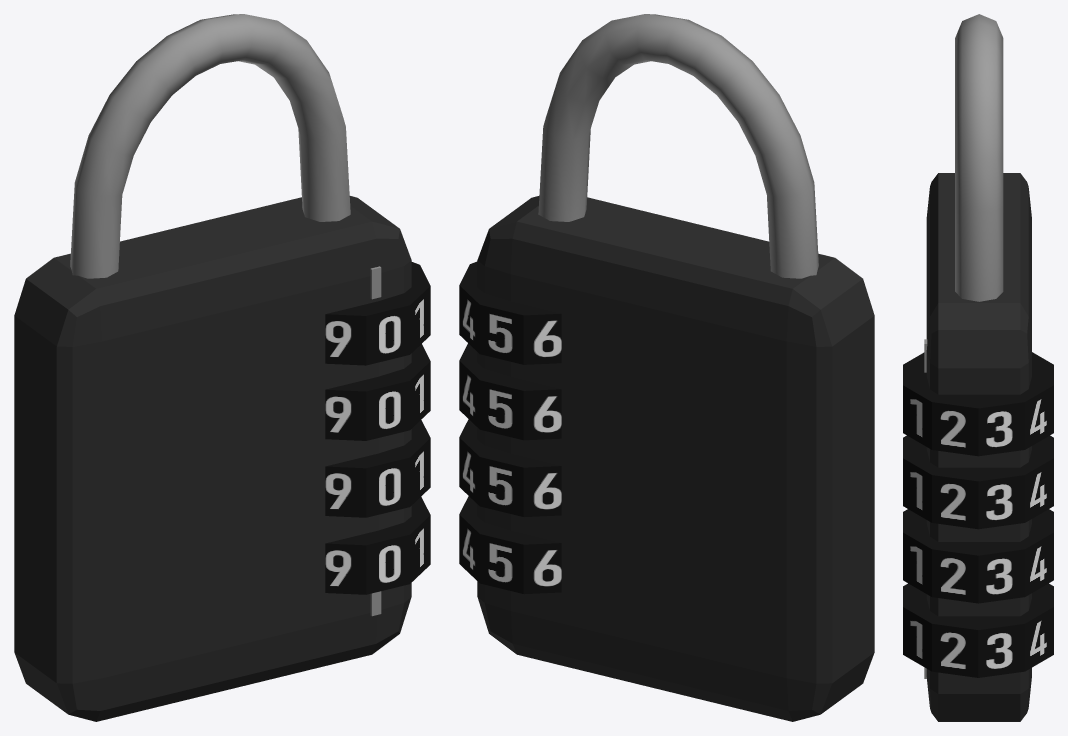
Rendered from padlock.fbx.
The picture shows the model from 3 angles, left to right: view 1: azimuth 30°, elevation 25°; view 2: azimuth 150°, elevation 25°; view 3: azimuth 270°, elevation 25°; orthographic projection. The views are drawn at different scales.
Visible parts, largest first — view 1: padlock_body, neck, dial_1, dial_4, dial_3, dial_2; view 2: padlock_body, neck, dial_1, dial_3, dial_4, dial_2; view 3: padlock_body, neck, dial_1, dial_4, dial_2, dial_3.
Boxes of the visible parts, x1,y1,x2,y2 form: padlock_body: [14, 196, 411, 721]; neck: [70, 14, 350, 278]; dial_1: [325, 262, 430, 365]; dial_4: [325, 497, 430, 594]; dial_3: [325, 420, 430, 517]; dial_2: [325, 344, 430, 440]; padlock_body: [477, 196, 874, 721]; neck: [538, 14, 818, 278]; dial_1: [459, 261, 561, 364]; dial_3: [459, 419, 561, 517]; dial_4: [459, 496, 561, 594]; dial_2: [459, 343, 561, 440]; padlock_body: [924, 173, 1031, 721]; neck: [955, 14, 1003, 301]; dial_1: [903, 352, 1053, 456]; dial_4: [903, 583, 1053, 677]; dial_2: [903, 435, 1053, 529]; dial_3: [903, 509, 1053, 603].
Bounding box in the file's own units: 0.0812 × 0.1322 × 0.0285.
